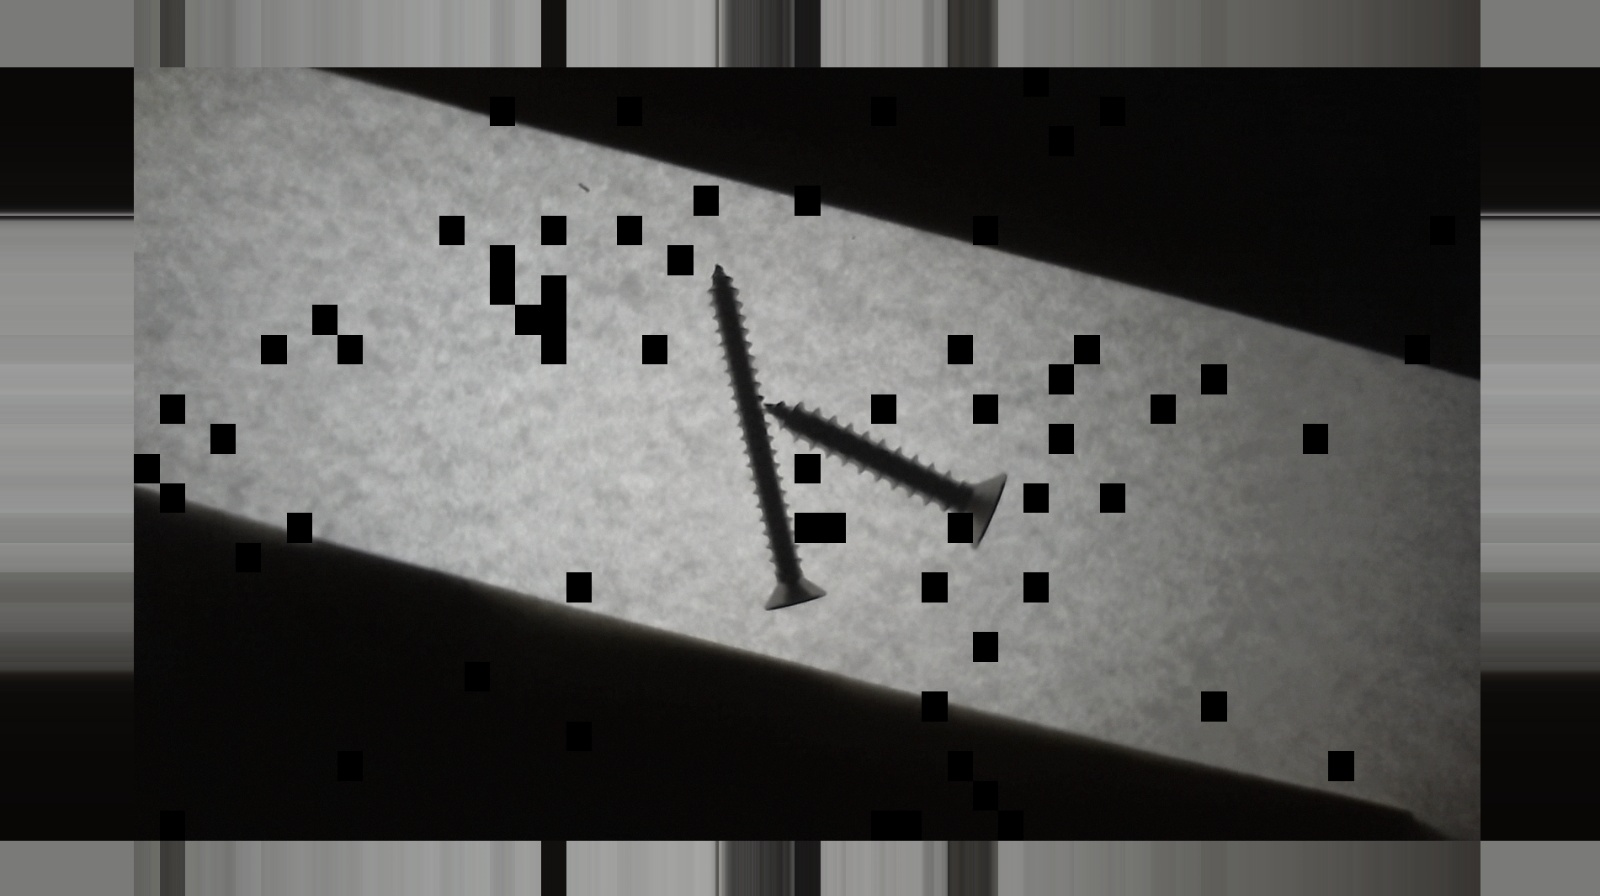S001: (755, 396, 1012, 558)
S002: (703, 269, 829, 617)
